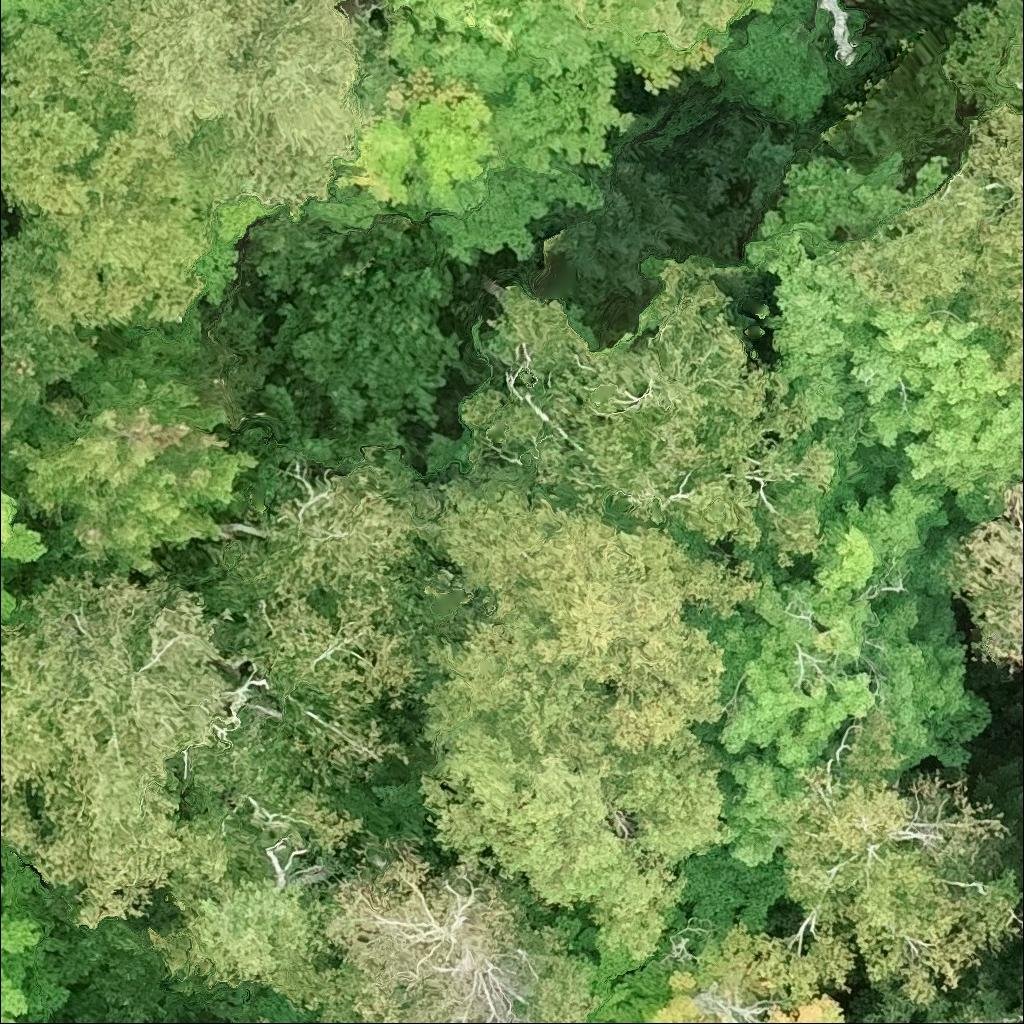crown: (679, 467, 998, 945), (459, 250, 838, 568), (0, 0, 363, 331), (412, 610, 737, 964), (743, 148, 1023, 527), (188, 446, 490, 790), (414, 462, 768, 753), (0, 569, 243, 933), (723, 763, 1023, 1009), (0, 311, 260, 585), (845, 0, 1023, 389), (376, 13, 637, 266), (315, 837, 602, 1023), (391, 0, 727, 97), (146, 870, 350, 1023), (301, 96, 503, 234), (944, 478, 1023, 665), (0, 873, 72, 1023), (195, 197, 280, 309), (242, 208, 346, 299), (559, 0, 744, 47), (0, 478, 48, 621), (641, 963, 718, 1023), (0, 0, 79, 41), (760, 990, 847, 1023), (936, 1006, 999, 1023), (253, 1014, 280, 1023), (0, 0, 9, 20), (335, 1019, 368, 1023), (320, 1023, 321, 1023)
